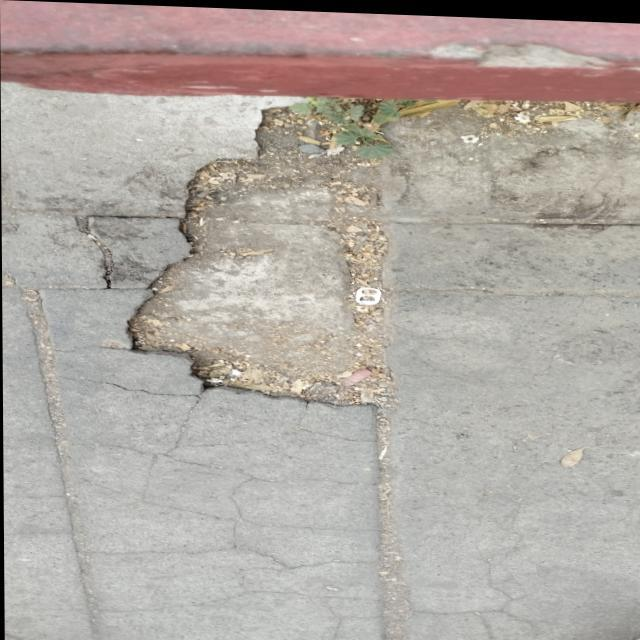hole: (130, 90, 402, 406)
